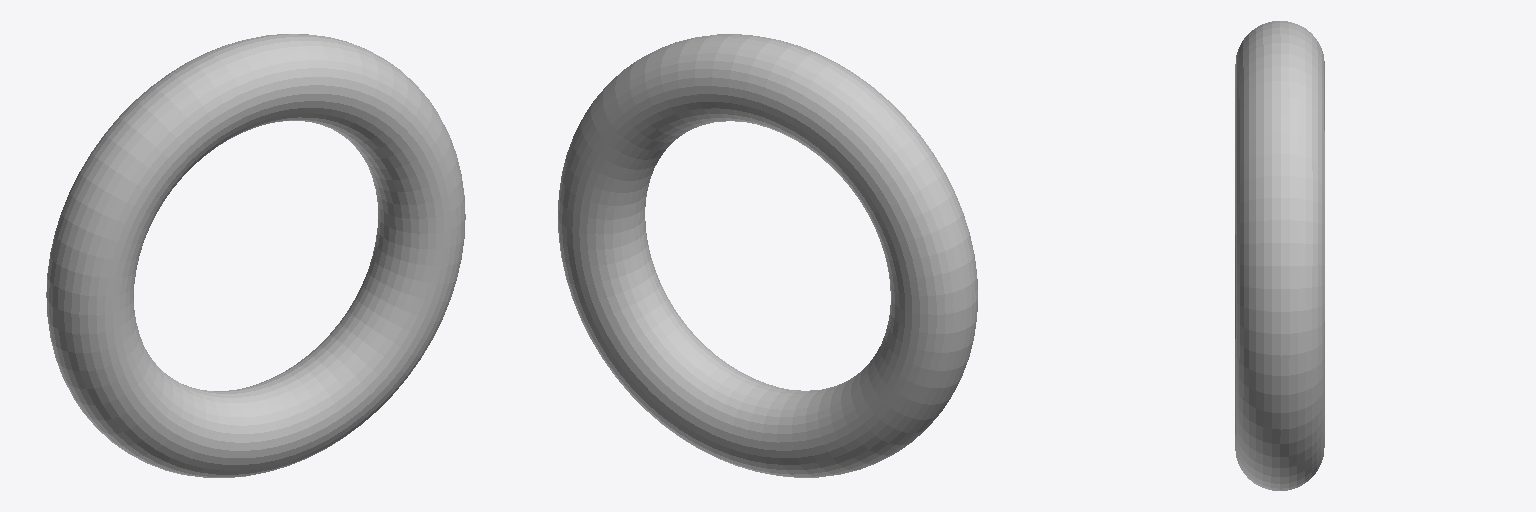
File: ring.obj
3 views of the same model, side by side, from view 1: azimuth 30°, elevation 25°; view 2: azimuth 150°, elevation 25°; view 3: azimuth 270°, elevation 25° (orthographic).
Visible parts, largest first — view 1: Torus1; view 2: Torus1; view 3: Torus1.
Boxes of the visible parts, box(x1,y1,x2,y2) form: Torus1: box(46, 34, 465, 477); Torus1: box(558, 34, 977, 477); Torus1: box(1235, 21, 1324, 490).
Bounding box in the file's own units: 0.9583 × 0.9583 × 0.185.